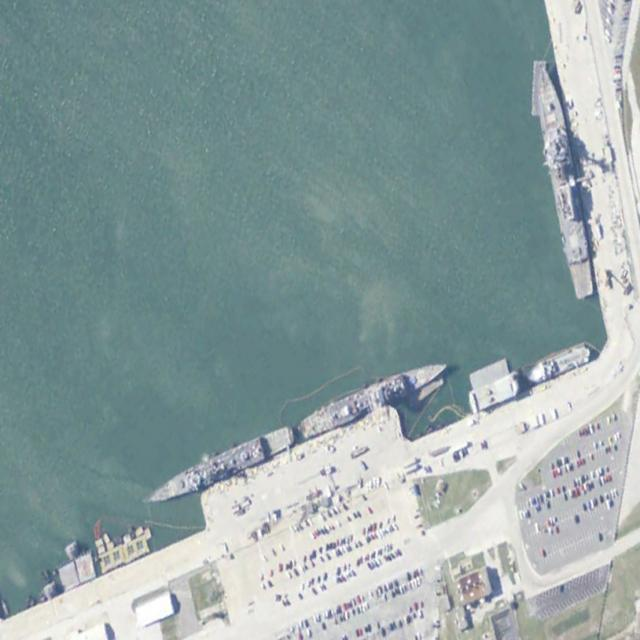Destroyer: (532, 61, 596, 301)
Frigate: (142, 422, 296, 512), (297, 353, 448, 440)
